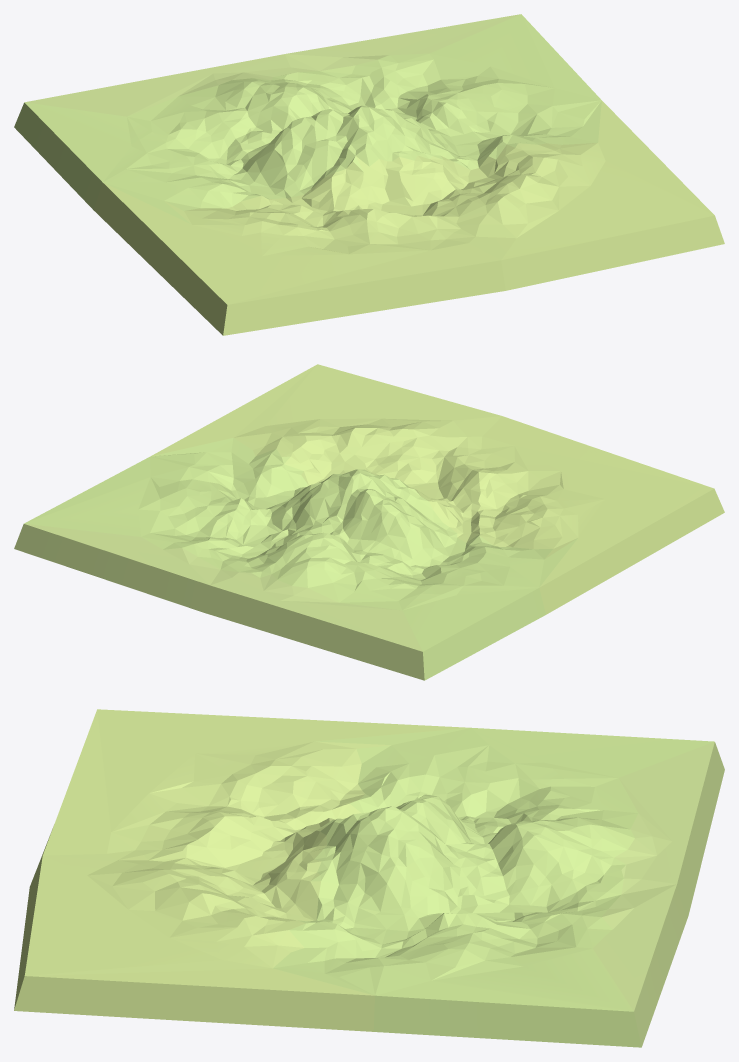
Rendered from lake_ground_04.glb.
3 views of the same model, one above another, from view 1: azimuth 30°, elevation 25°; view 2: azimuth 150°, elevation 25°; view 3: azimuth 270°, elevation 25° (orthographic). The views are drawn at different scales.
Parts seen in each view (by area): view 1: PP_Lake_Ground_04.002; view 2: PP_Lake_Ground_04.002; view 3: PP_Lake_Ground_04.002.
Part boxes in pixels (x1,y1,x2,y2): PP_Lake_Ground_04.002: (14,14,724,335); PP_Lake_Ground_04.002: (14,364,724,680); PP_Lake_Ground_04.002: (14,709,724,1047).
Size of the model in its own units: 14.96 by 1.92 by 14.44.
